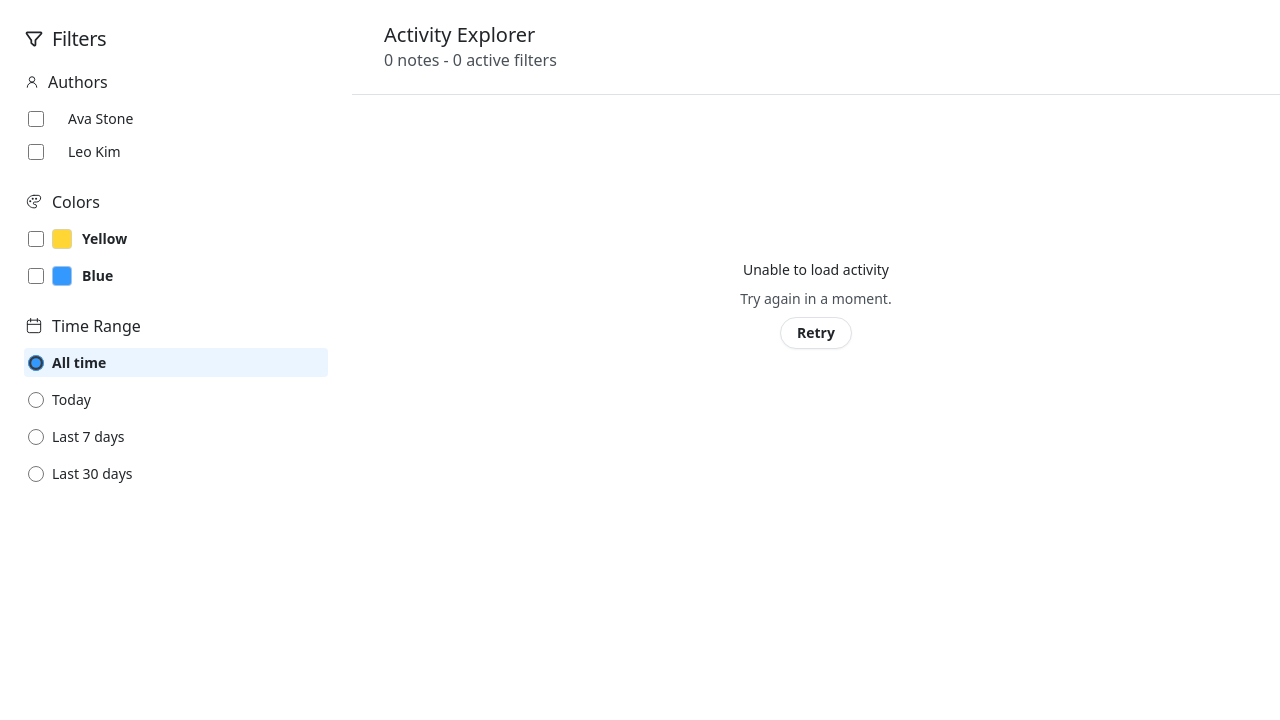
Test: ActivityExplorerPage › shows error state and retries failed notes request
The width and height of the screenshot is (1280, 720).
Expected: the heading "Unable to load activity" is shown, x1=743 y1=258 x2=889 y2=280
Click the button "Retry": (816, 332) x1=780 y1=316 x2=852 y2=348
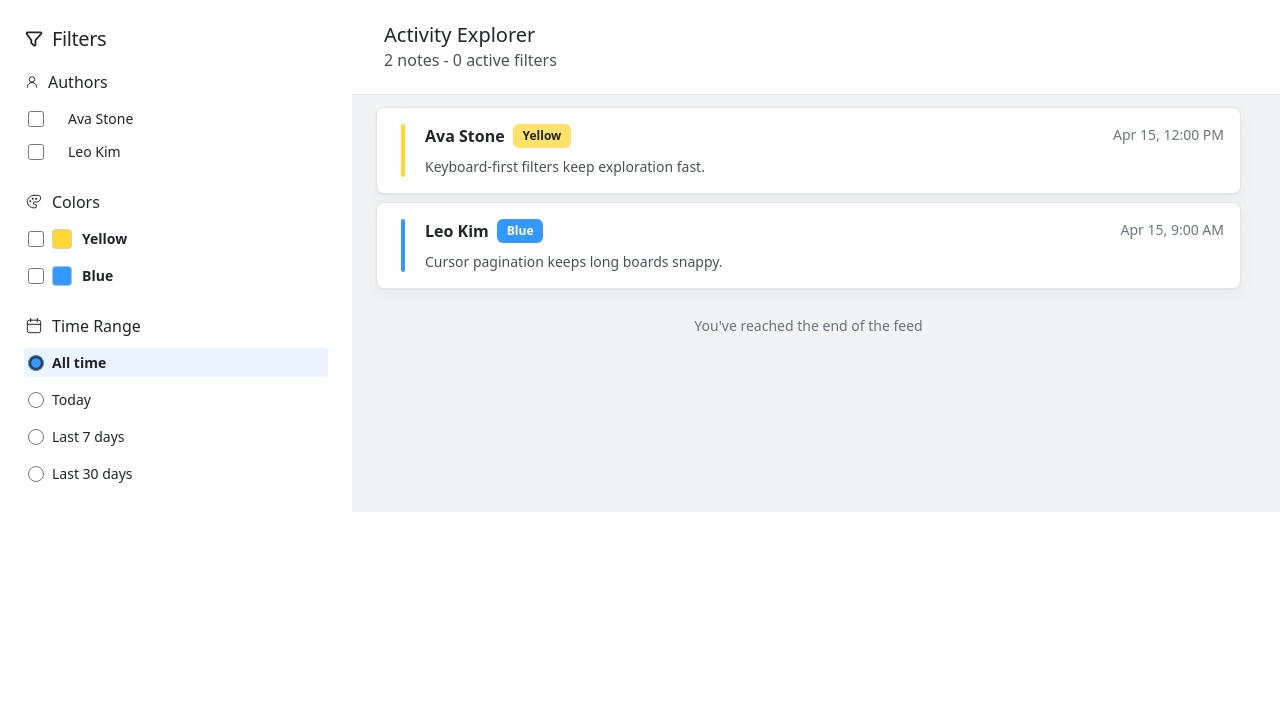
Now the button with aria-label "note from ava stone" is shown, box x1=376 y1=107 x2=1241 y2=194
